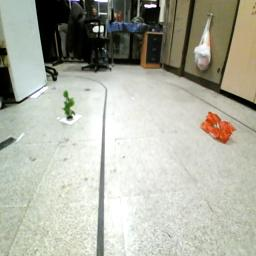herb: (61, 90, 80, 121)
wild: (201, 111, 238, 145)
